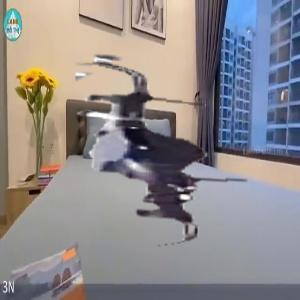drone: (72, 57, 273, 258)
